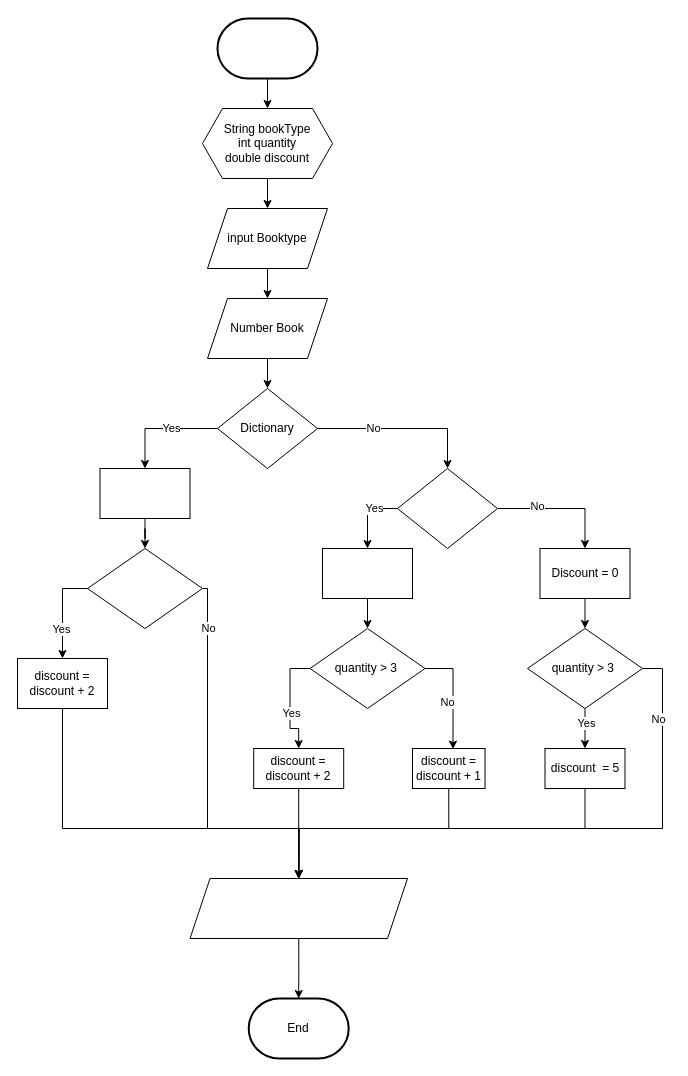
This 688x1076 diagram has some shape labels left out. Here are the shapes that lost their labels. From the top down, the box of each, then its label:
(216, 17, 318, 79): start
(99, 468, 190, 518): discount 10
(396, 468, 498, 548): Novel
(86, 548, 202, 628): quantity > 2
(322, 548, 412, 598): discount 7
(189, 878, 408, 938): discount recevied: + discount + "%"
